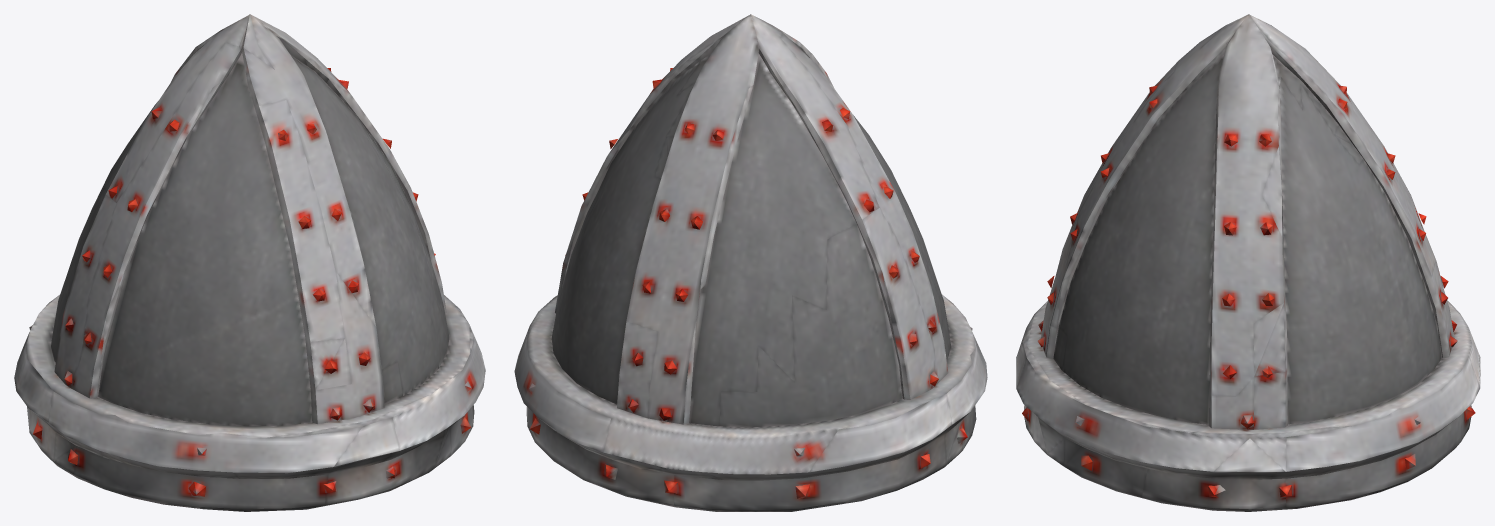
File: item_mm9_10221.glb
3 renders of one model, left to right at view 1: azimuth 30°, elevation 25°; view 2: azimuth 150°, elevation 25°; view 3: azimuth 270°, elevation 25°, orthographic.
Parts seen in each view (by area): view 1: d10221; view 2: d10221; view 3: d10221.
Part boxes in pixels (x1=…): d10221: x1=14, y1=14, x2=485, y2=511; d10221: x1=514, y1=14, x2=987, y2=511; d10221: x1=1016, y1=14, x2=1480, y2=511.
Bounding box in the file's own units: 1 × 0.9613 × 1.
Materials: 1 (1 with a texture image).
